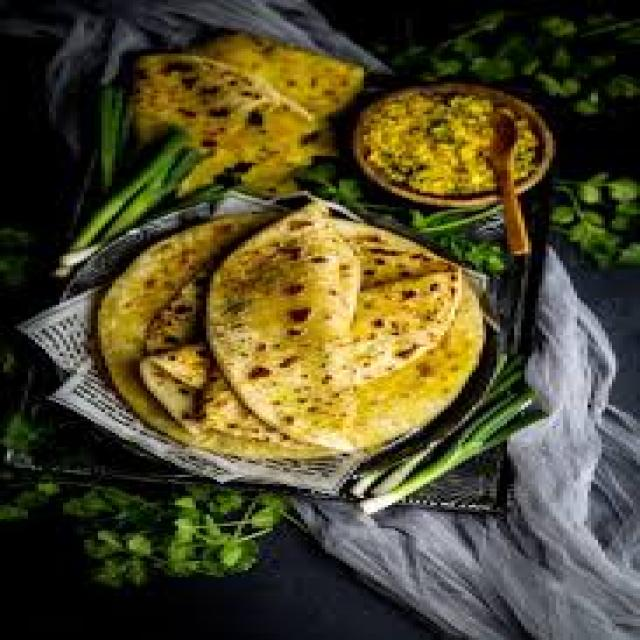ROTI: (210, 205, 353, 426), (339, 230, 483, 447), (101, 219, 255, 414), (143, 344, 294, 442)
